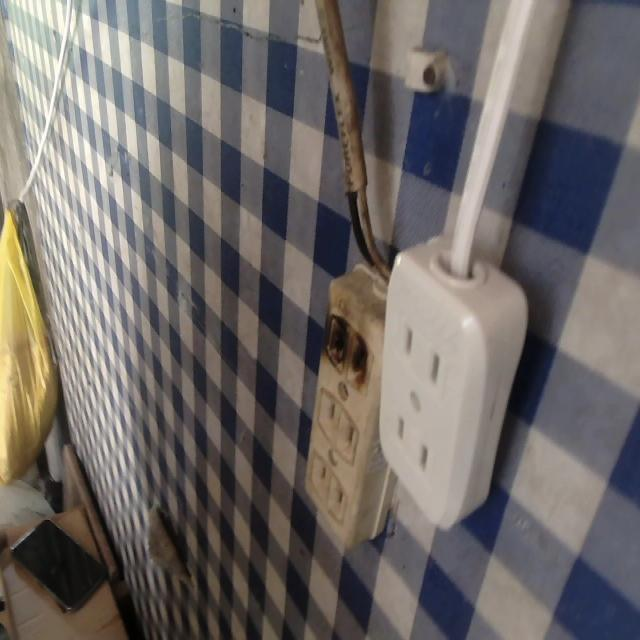-: (321, 304, 381, 393)
